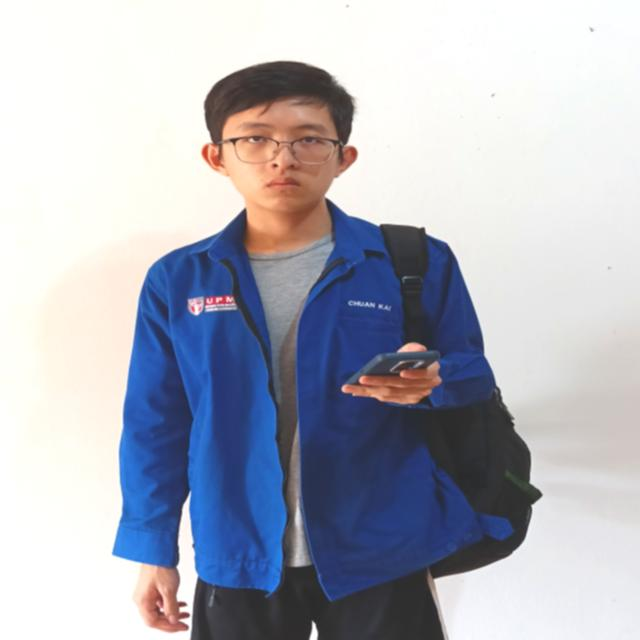person_with_labcoat: (113, 62, 541, 640)
